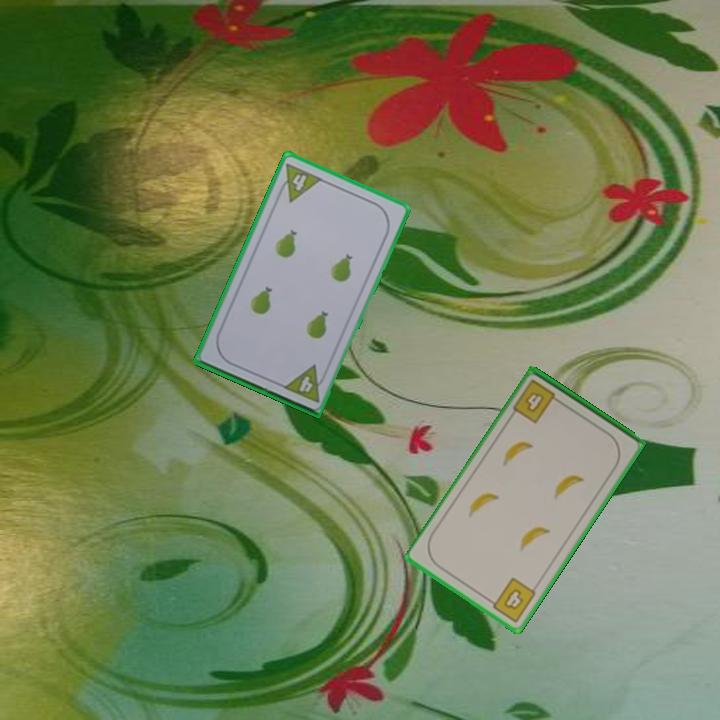4b: (484, 574, 539, 626), (509, 376, 565, 427)
4p: (273, 160, 325, 205), (279, 361, 330, 405)
